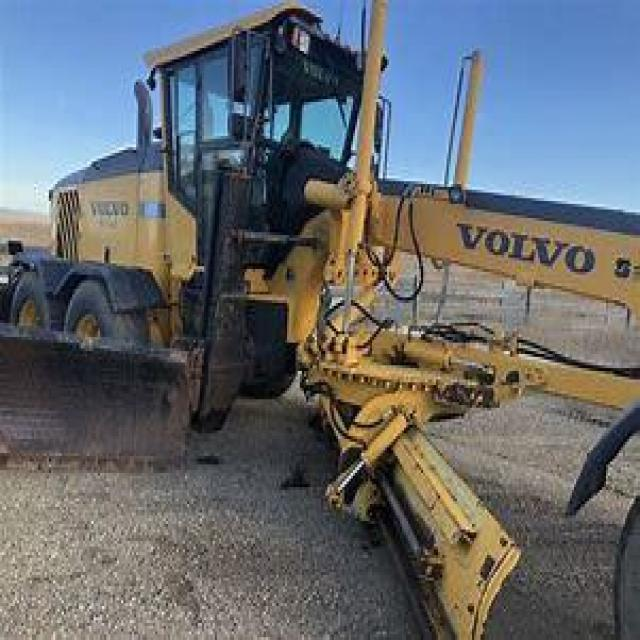Grader: (2, 3, 638, 629)
